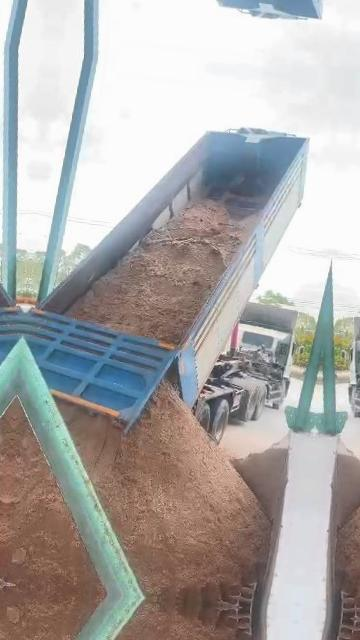sand: (60, 367, 270, 601), (67, 200, 255, 343), (0, 400, 96, 592), (232, 437, 287, 518)
